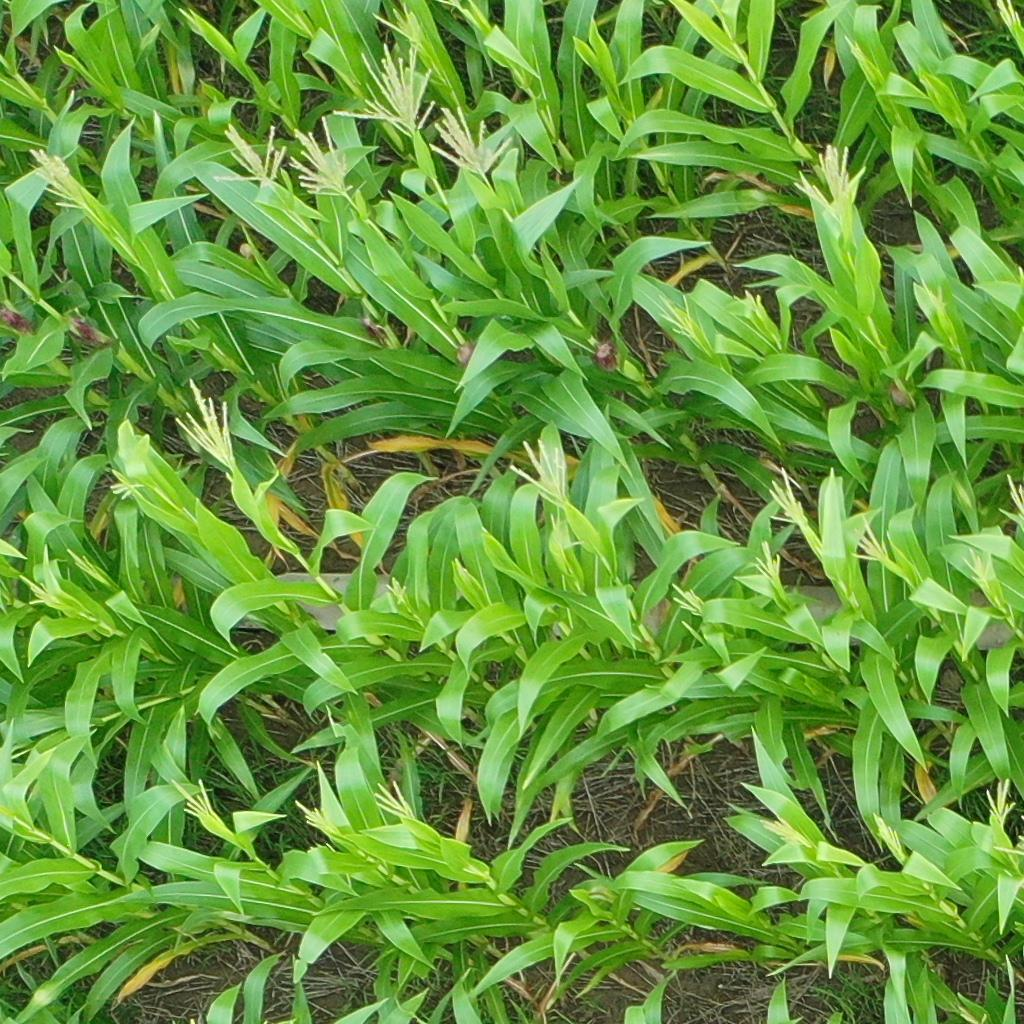Tassel: (330, 42, 436, 136), (426, 102, 524, 186), (289, 113, 362, 209), (792, 141, 865, 234), (169, 372, 240, 467), (212, 121, 291, 191), (506, 438, 574, 508), (24, 145, 91, 213), (761, 457, 815, 532), (651, 281, 701, 347), (164, 770, 221, 827), (372, 1, 430, 49), (849, 514, 893, 569), (753, 811, 815, 850), (369, 777, 421, 822), (957, 544, 1001, 595), (17, 573, 67, 614), (873, 809, 909, 862), (982, 775, 1020, 823), (104, 471, 150, 510), (65, 536, 103, 582), (728, 284, 770, 325), (666, 582, 709, 621), (291, 794, 335, 832), (754, 540, 784, 581), (375, 572, 409, 608), (916, 277, 945, 314), (997, 473, 1024, 511), (994, 1, 1022, 35), (991, 830, 1024, 856), (846, 34, 865, 65)
